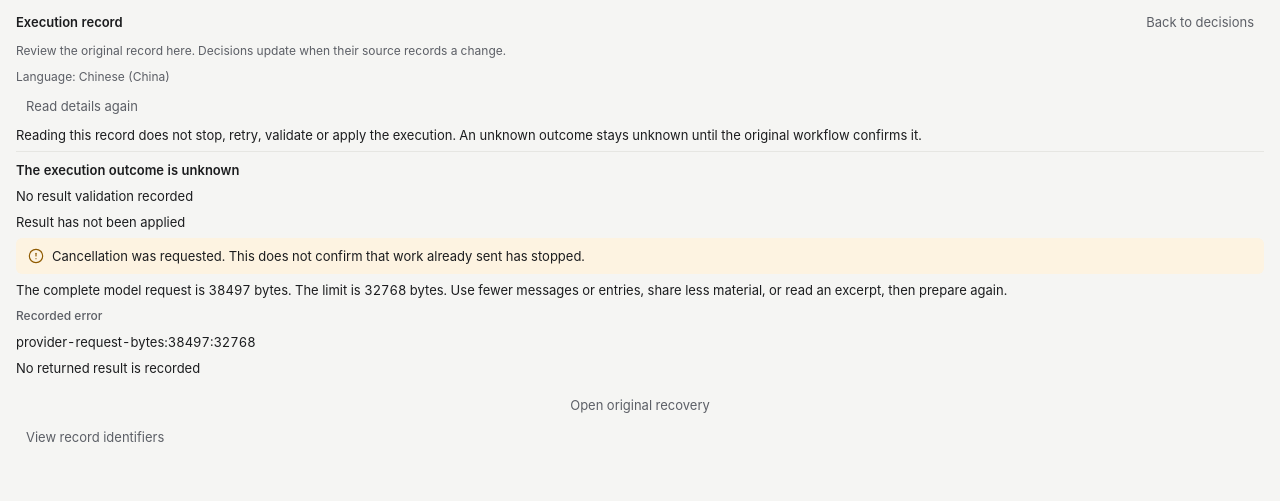
Scenario: keeps an unlinked original execution read-only and does not retry or clear its unknown outcome
Click the button "Open original recovery": click(640, 405) [16,392,1264,418]
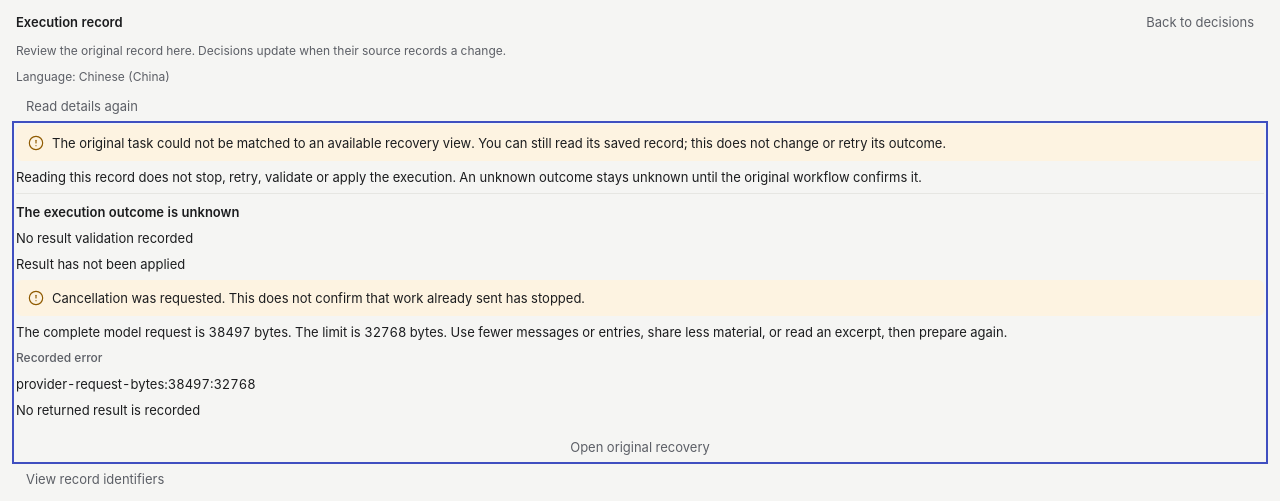
Result: the text "The original task could not be matched to an available recovery view. You can still read its saved record; this does not" is shown at [52,135,946,151]
